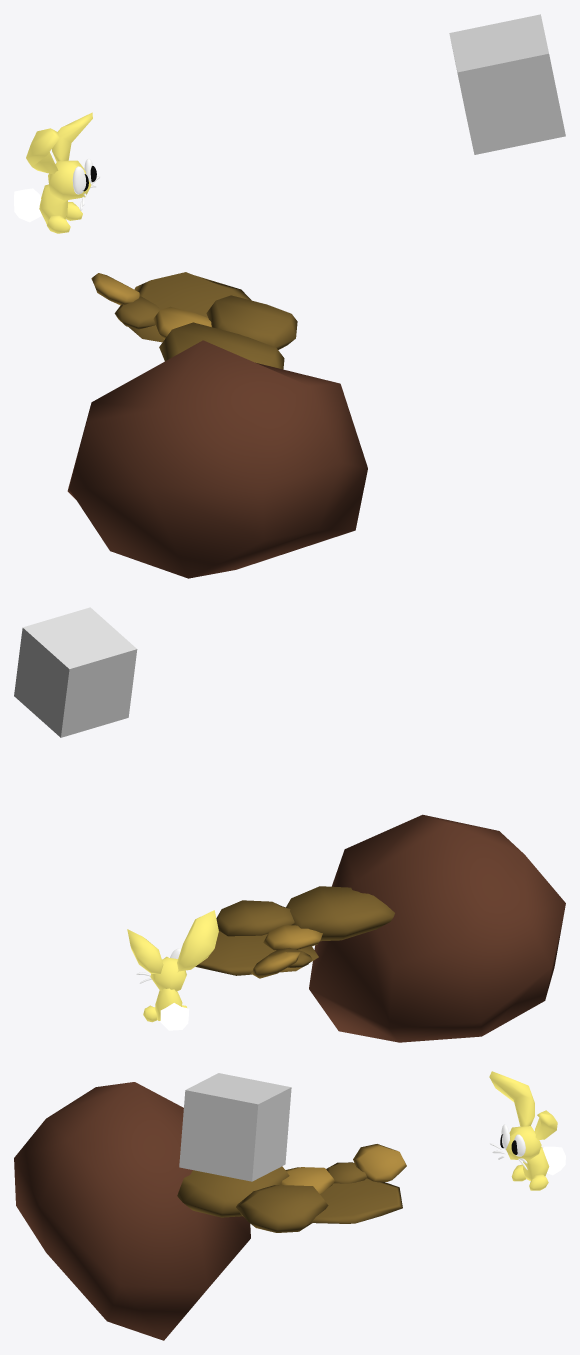
3 renders of one model, top to bottom at view 1: azimuth 30°, elevation 25°; view 2: azimuth 150°, elevation 25°; view 3: azimuth 270°, elevation 25°, orthographic. The views are drawn at different scales.
Visible parts, largest first — view 1: Cube.040, cam_marker, bunny, Cube.064, Cube.065, Cube.031, Cube.033, Cube.032, Cube.034; view 2: Cube.040, cam_marker, bunny, Cube.031, Cube.065, Cube.064, Cube.032, Cube.034; view 3: Cube.040, cam_marker, bunny, Cube.064, Cube.031, Cube.065, Cube.034, Cube.032, Cube.033.
Part boxes in pixels (x1,y1,x2,y2): Cube.040: (67, 340, 367, 578); cam_marker: (449, 14, 565, 154); bunny: (14, 112, 100, 233); Cube.064: (206, 295, 297, 349); Cube.065: (129, 272, 251, 342); Cube.031: (159, 322, 284, 369); Cube.033: (114, 296, 160, 329); Cube.032: (153, 306, 211, 339); Cube.034: (91, 273, 140, 305); Cube.040: (309, 814, 565, 1042); cam_marker: (14, 607, 137, 737); bunny: (127, 910, 218, 1030); Cube.031: (286, 886, 394, 941); Cube.065: (195, 931, 318, 975); Cube.064: (216, 900, 294, 936); Cube.032: (263, 925, 322, 950); Cube.034: (251, 951, 300, 978); Cube.040: (14, 1082, 250, 1340); cam_marker: (179, 1073, 291, 1181); bunny: (489, 1071, 565, 1190); Cube.064: (236, 1185, 328, 1232); Cube.031: (177, 1166, 289, 1217); Cube.065: (310, 1178, 402, 1223); Cube.034: (353, 1144, 406, 1182); Cube.032: (281, 1167, 334, 1193); Cube.033: (326, 1162, 367, 1183).
Bounding box in the file's own units: 13.53 × 9.96 × 13.72.
